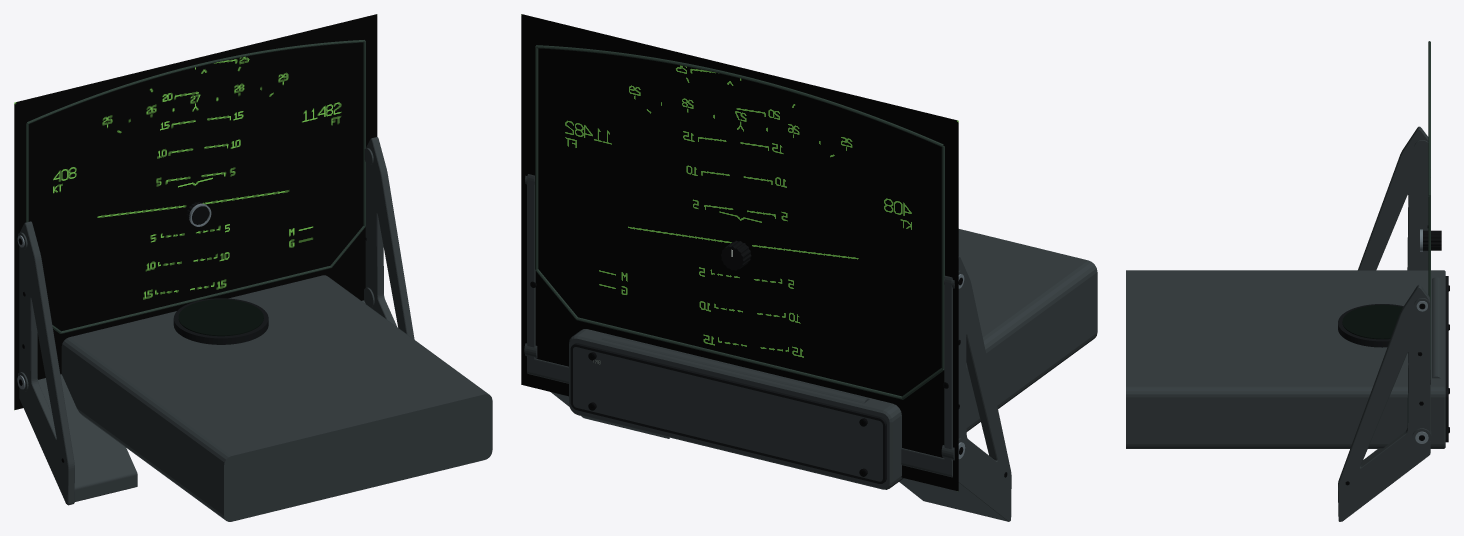
Rendered from MFDStudio.obj.
The picture shows the model from 3 angles, left to right: view 1: azimuth 30°, elevation 25°; view 2: azimuth 150°, elevation 25°; view 3: azimuth 270°, elevation 25°; orthographic projection. The views are drawn at different scales.
Visible parts, largest first — view 1: MFDStudioScreen, MFDStudioBody, MFDStudioCombinerFrame; view 2: MFDStudioScreen, MFDStudioBody, MFDStudioCombinerFrame, MFDStudioKnob0; view 3: MFDStudioBody, MFDStudioCombinerFrame, MFDStudioKnob0.
Boxes of the visible parts, x1=… form: MFDStudioScreen: x1=14, y1=14, x2=377, y2=410; MFDStudioBody: x1=61, y1=275, x2=492, y2=521; MFDStudioCombinerFrame: x1=17, y1=40, x2=414, y2=505; MFDStudioScreen: x1=521, y1=14, x2=958, y2=491; MFDStudioBody: x1=569, y1=229, x2=1097, y2=489; MFDStudioCombinerFrame: x1=524, y1=45, x2=1011, y2=521; MFDStudioKnob0: x1=721, y1=240, x2=751, y2=270; MFDStudioBody: x1=1126, y1=270, x2=1448, y2=448; MFDStudioCombinerFrame: x1=1338, y1=41, x2=1431, y2=521; MFDStudioKnob0: x1=1420, y1=229, x2=1441, y2=251.
Bounding box in the file's own units: 0.29 × 0.2817 × 0.2397.
Materials: 11 (1 with a texture image).
